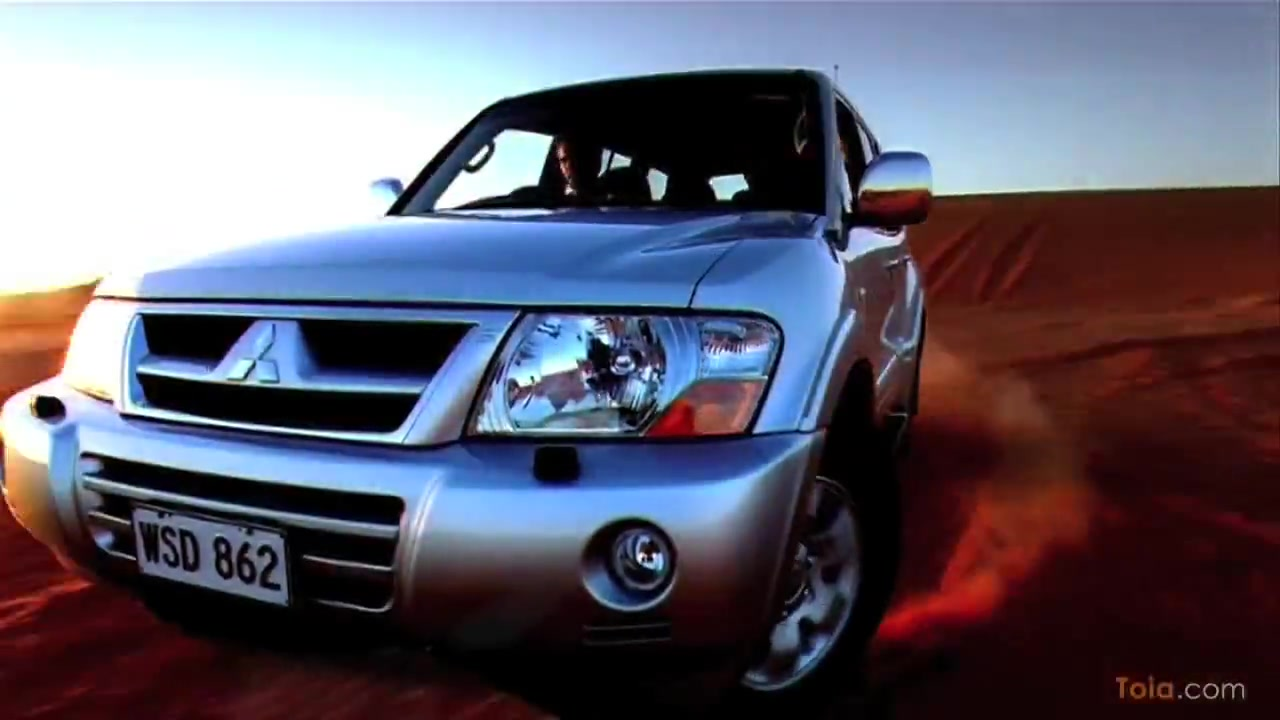car: (1, 66, 936, 706)
